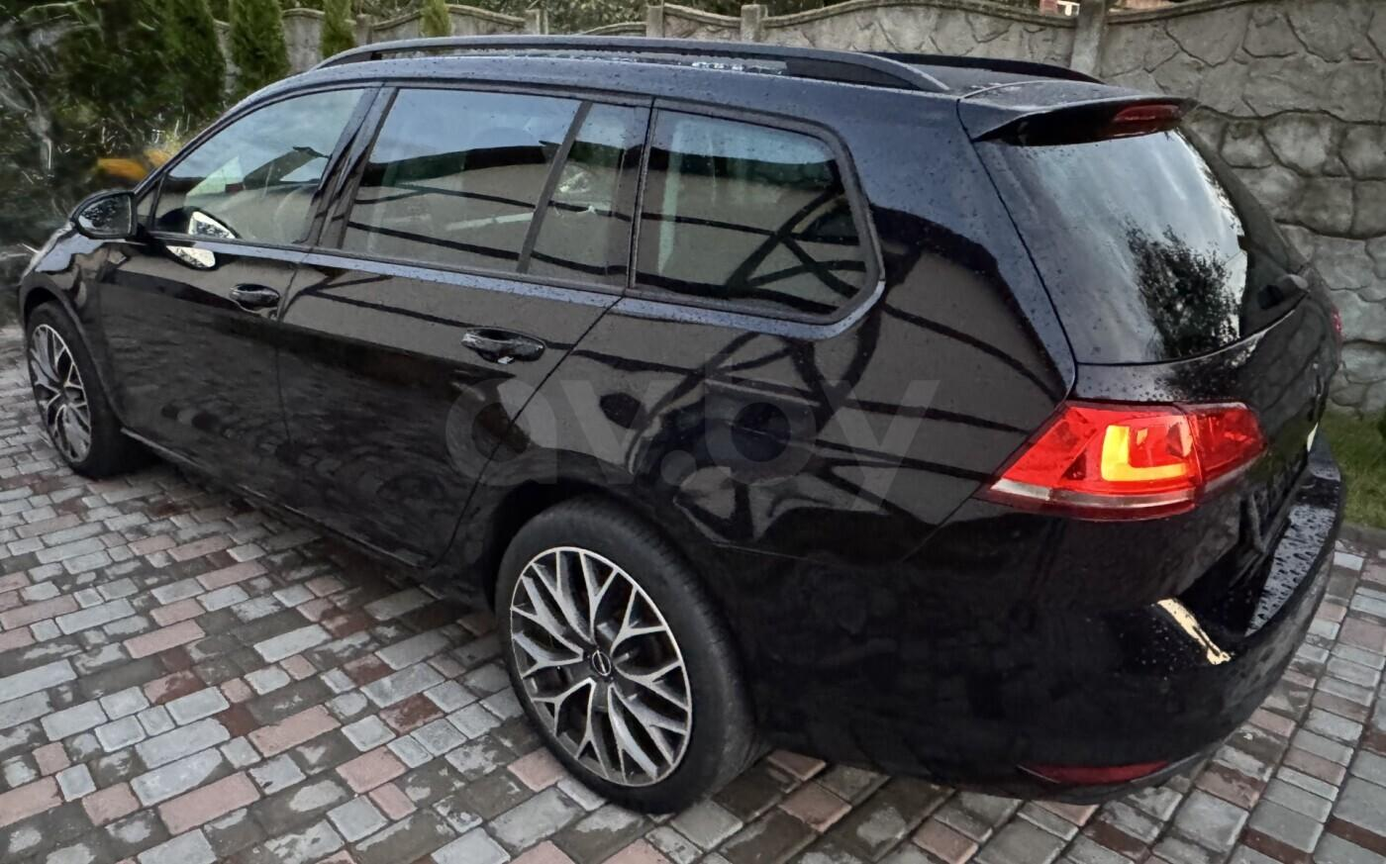Golf_2012-2017: (26, 42, 1360, 819)
